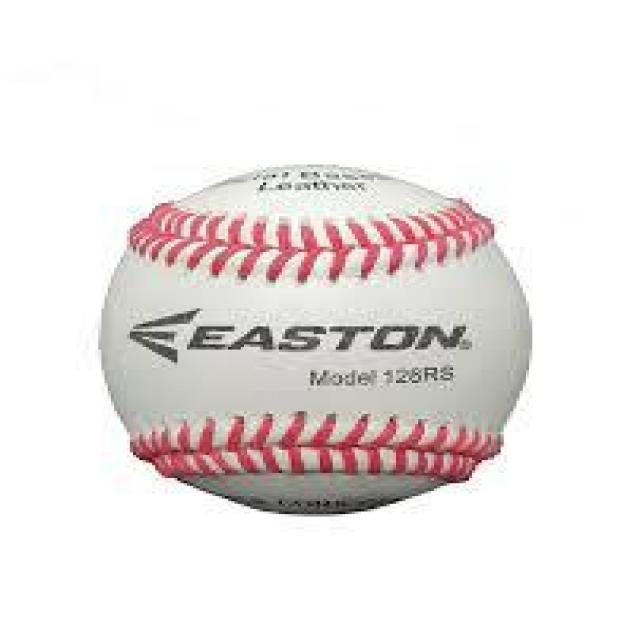ball: (91, 167, 541, 518)
